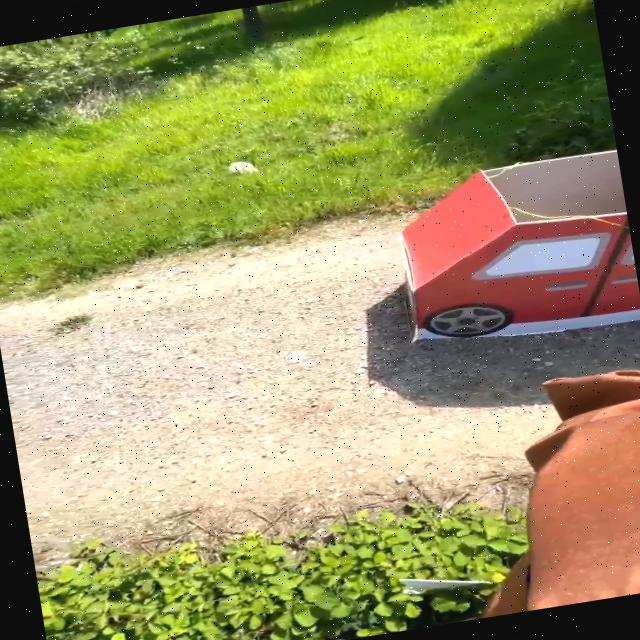red_car: (326, 123, 640, 377)
